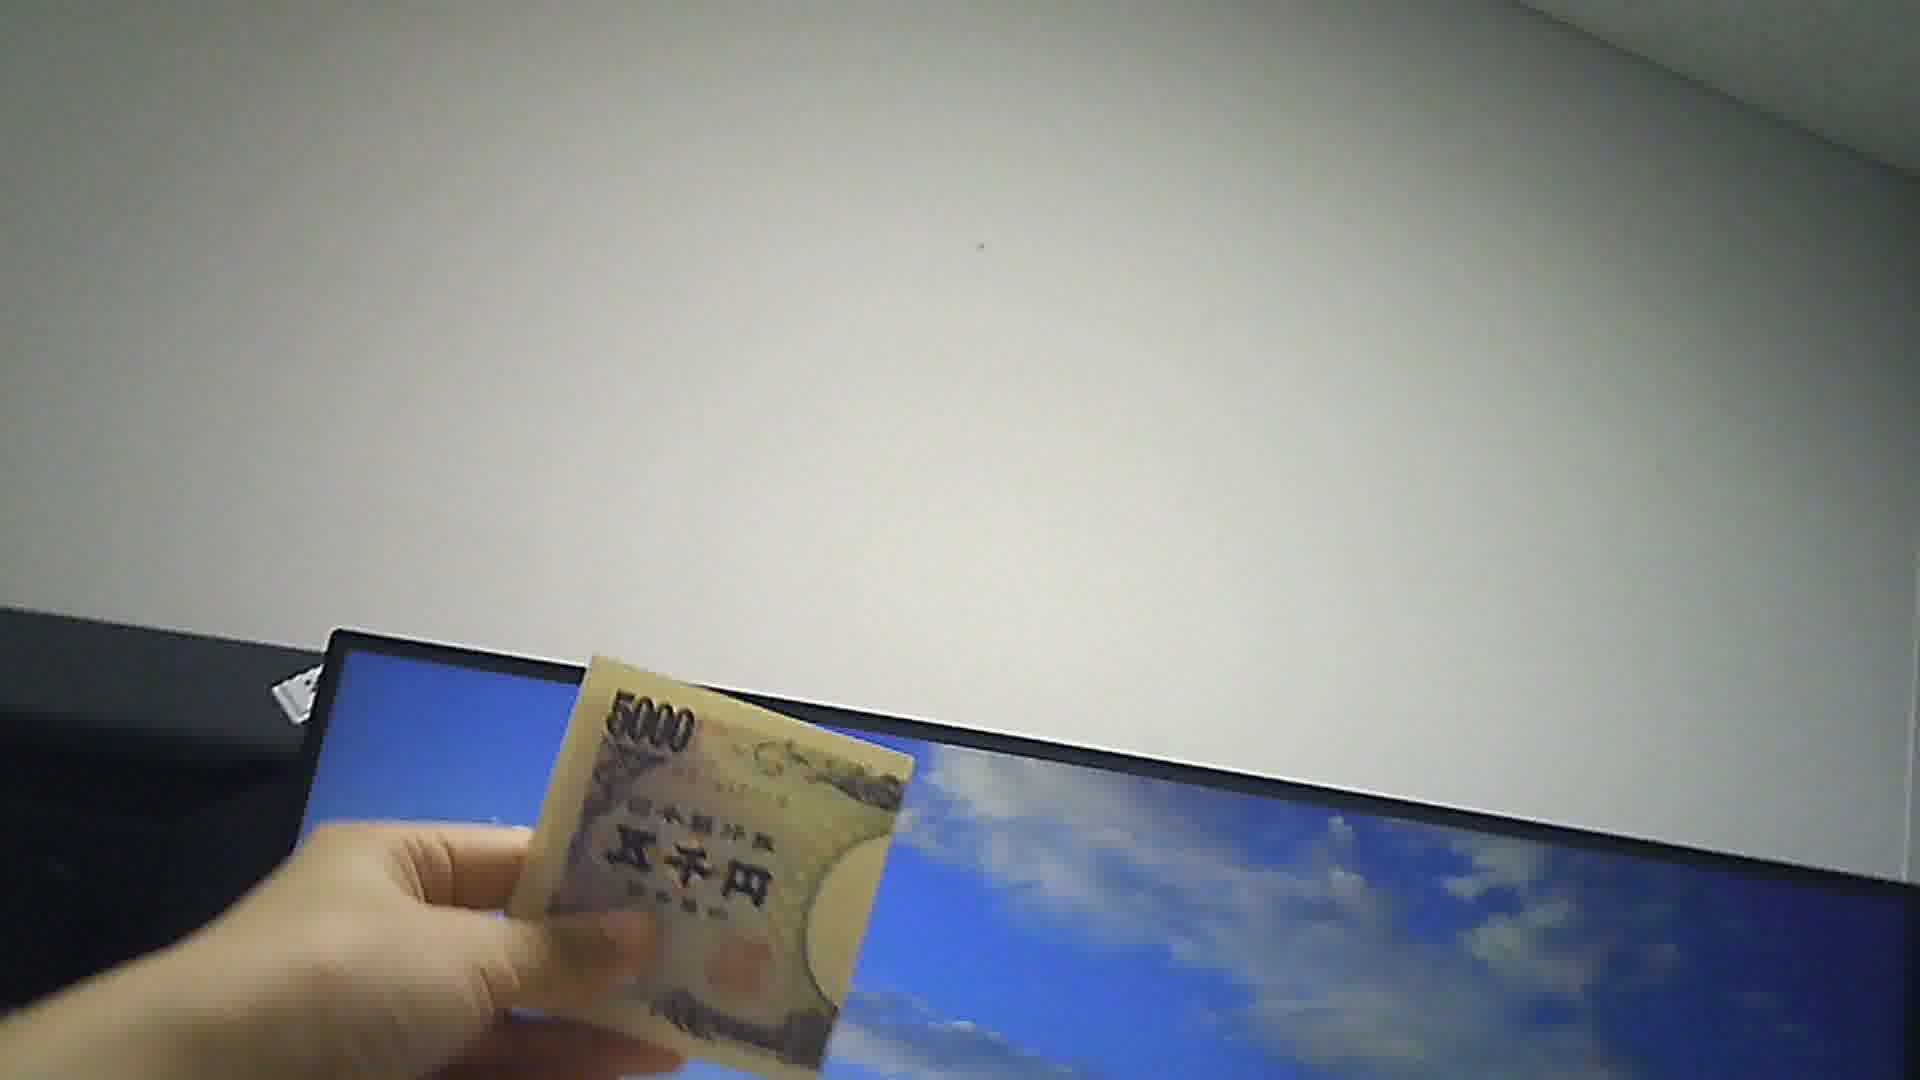5,000 Yen: (504, 644, 911, 1079)
